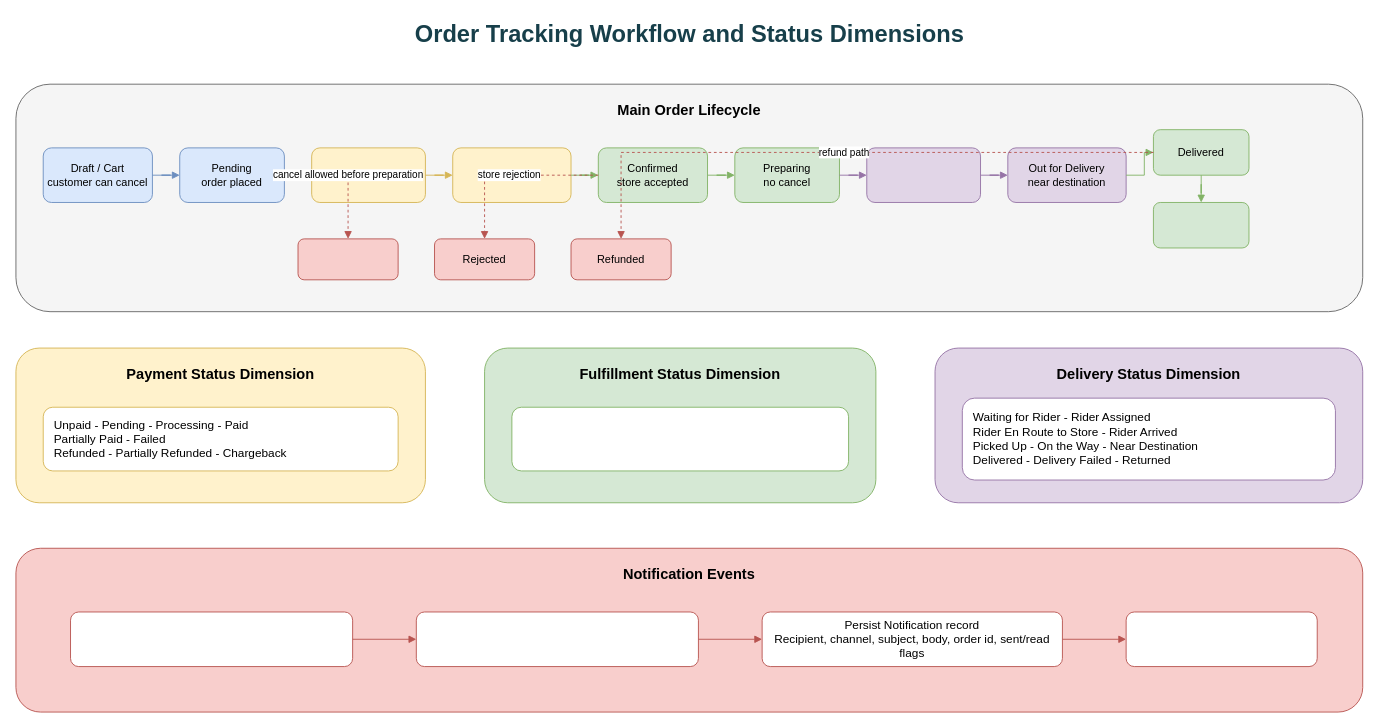
Some shapes in this 1379 by 728 pixel diagram are drawn without their labels. Here are the shapes that lost their labels. From the top down, the centre of each, then its label:
At (511,174): "Payment Verified".
At (923,174): "Ready / Pickup or rider assigned".
At (1201,225): "Completed".
At (347,259): "Cancelled".
At (680,438): "Not Started - Picking - Packing Packed - Ready - Assigned to Rider".
At (211,639): "Order placed Create notifications for admin and visitor".
At (556,639): "Status updated Create notifications for admin and visitor".
At (1221,639): "Send through IEmailSender currently LoggingEmailSender".
